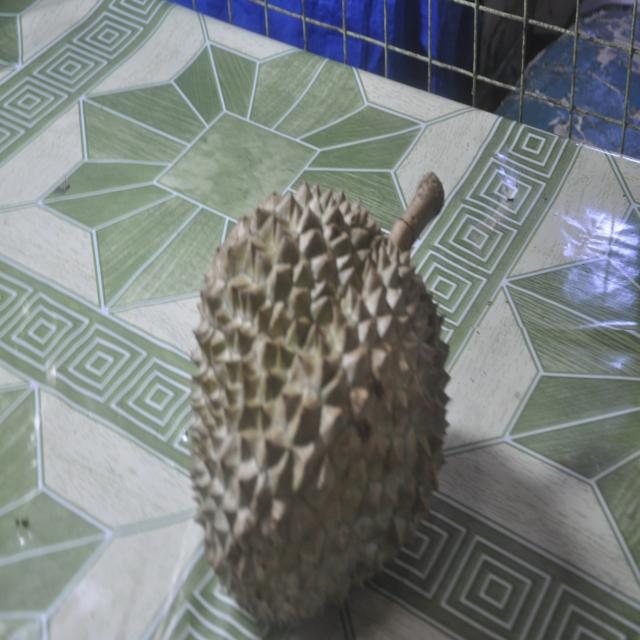mature: (190, 174, 448, 622)
